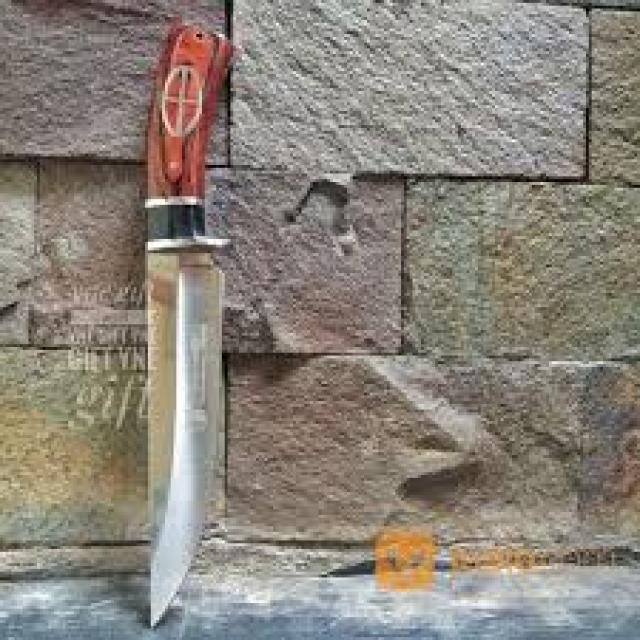Knife: (145, 23, 233, 626)
